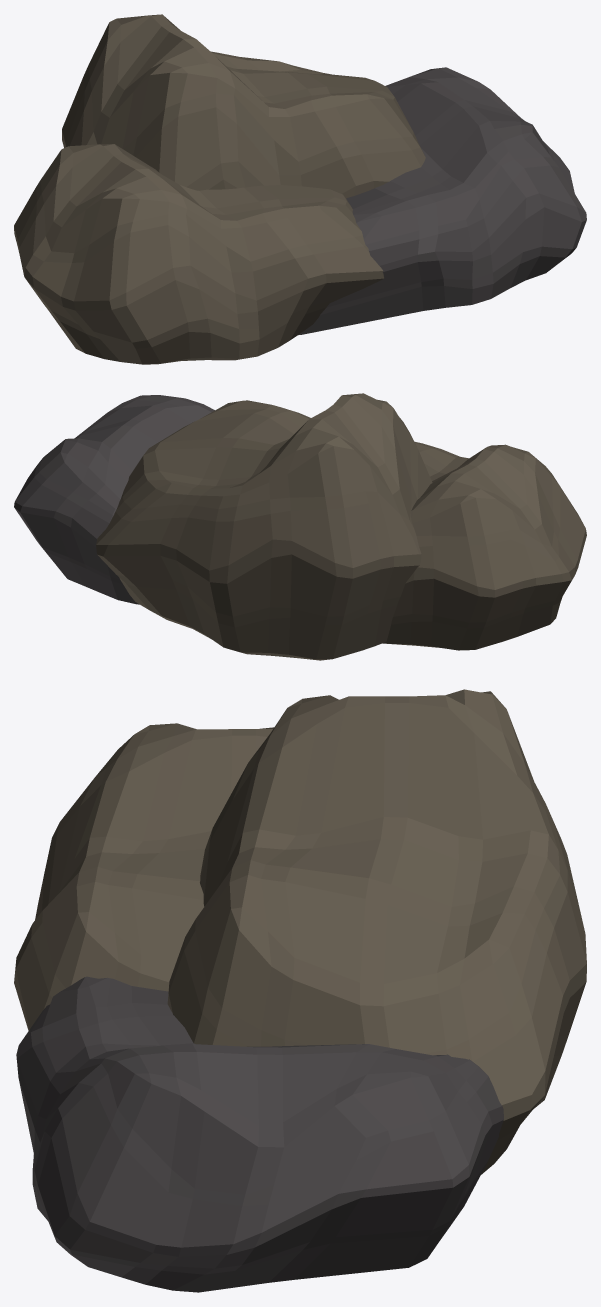
File: rock_7_garden.fbx
The picture shows the model from 3 angles, top to bottom: view 1: azimuth 30°, elevation 25°; view 2: azimuth 150°, elevation 25°; view 3: azimuth 270°, elevation 25°; orthographic projection. The views are drawn at different scales.
Visible parts, largest first — view 1: rock_7_garden, Cube.013; view 2: rock_7_garden, Cube.013; view 3: rock_7_garden, Cube.013.
Part boxes in pixels (x1,y1,x2,y2): rock_7_garden: (14,14,425,364); Cube.013: (298,67,586,335); rock_7_garden: (96,393,586,660); Cube.013: (14,395,214,604); rock_7_garden: (14,689,586,1174); Cube.013: (16,976,503,1292).
Bounding box in the file's own units: 98.02 × 41.92 × 59.15.
